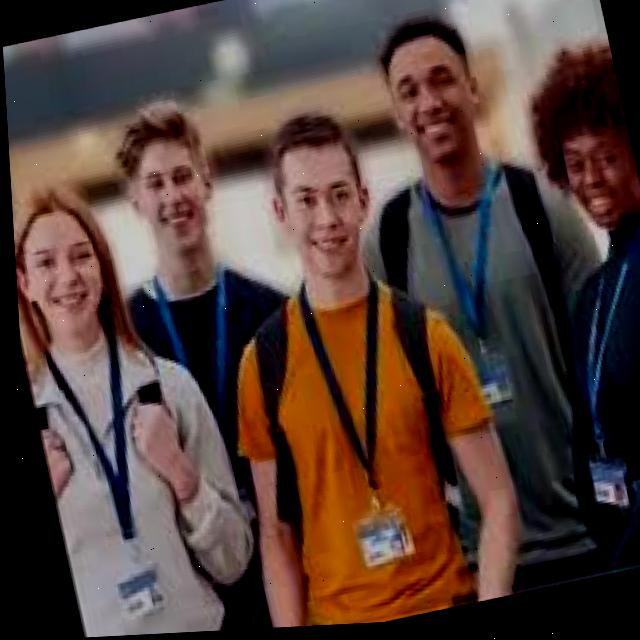id_card: (32, 318, 176, 633), (288, 277, 421, 578), (412, 172, 525, 422), (534, 256, 640, 519), (146, 262, 240, 413)
